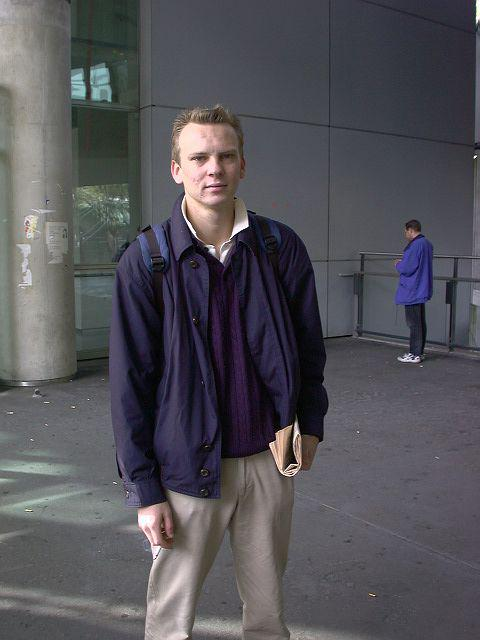Person: (105, 103, 336, 640), (391, 220, 436, 368)
